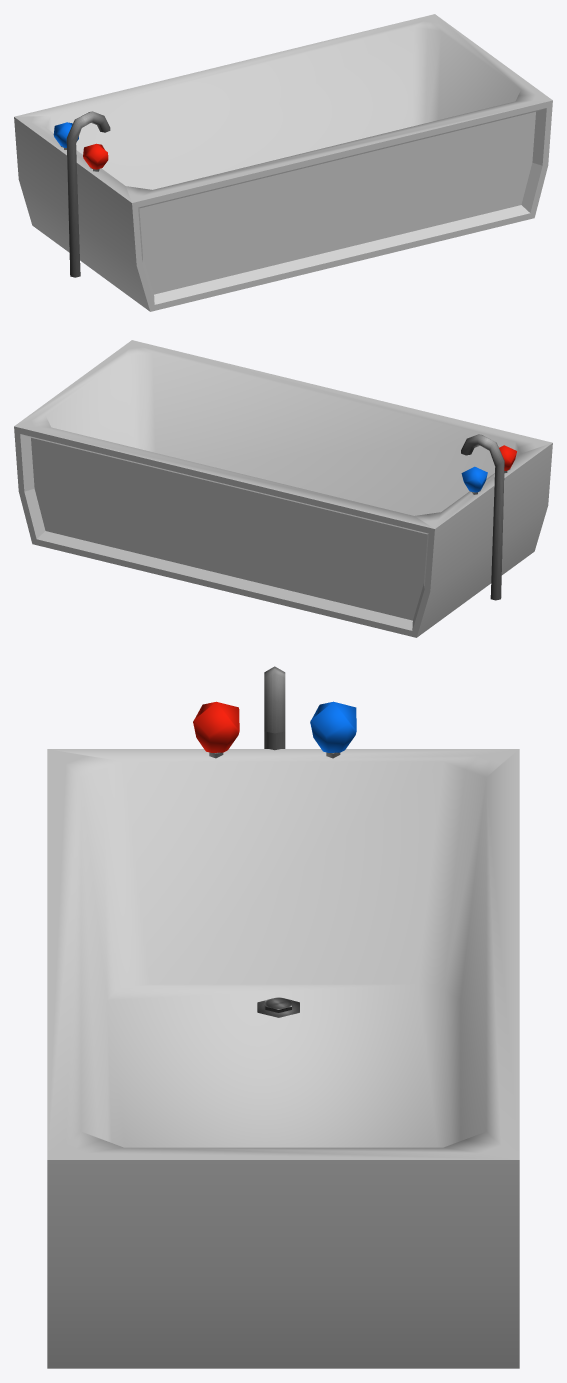
Rendered from BathTub.FBX.
3 renders of one model, top to bottom at view 1: azimuth 30°, elevation 25°; view 2: azimuth 150°, elevation 25°; view 3: azimuth 270°, elevation 25°, orthographic. The views are drawn at different scales.
Parts seen in each view (by area): view 1: Bathtub; view 2: Bathtub; view 3: Bathtub.
Boxes of the visible parts, box(x1,y1,x2,y2) form: Bathtub: box(14, 14, 552, 311); Bathtub: box(14, 340, 552, 637); Bathtub: box(47, 666, 519, 1368).
Size of the model in its own units: 357 by 127 by 170.
